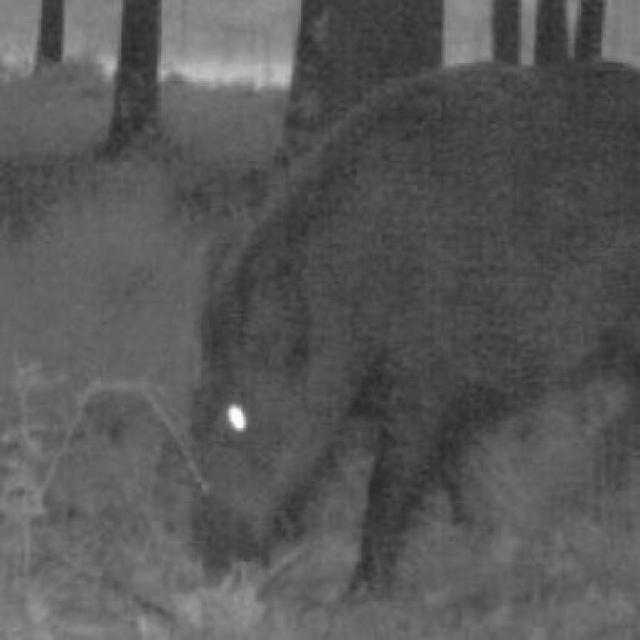pig: (172, 38, 638, 574)
